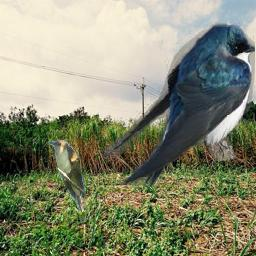Cuckoo: (46, 138, 86, 226)
Swallow: (103, 23, 255, 188)
